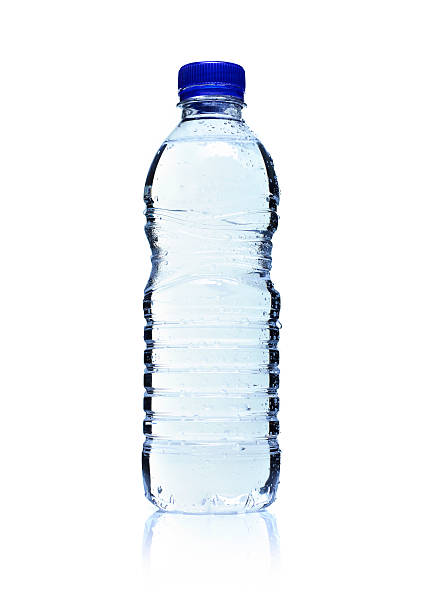HDPE Cap: (177, 61, 246, 87)
HDPE Ring: (178, 84, 244, 97)
PET Bottle: (140, 59, 281, 516)
